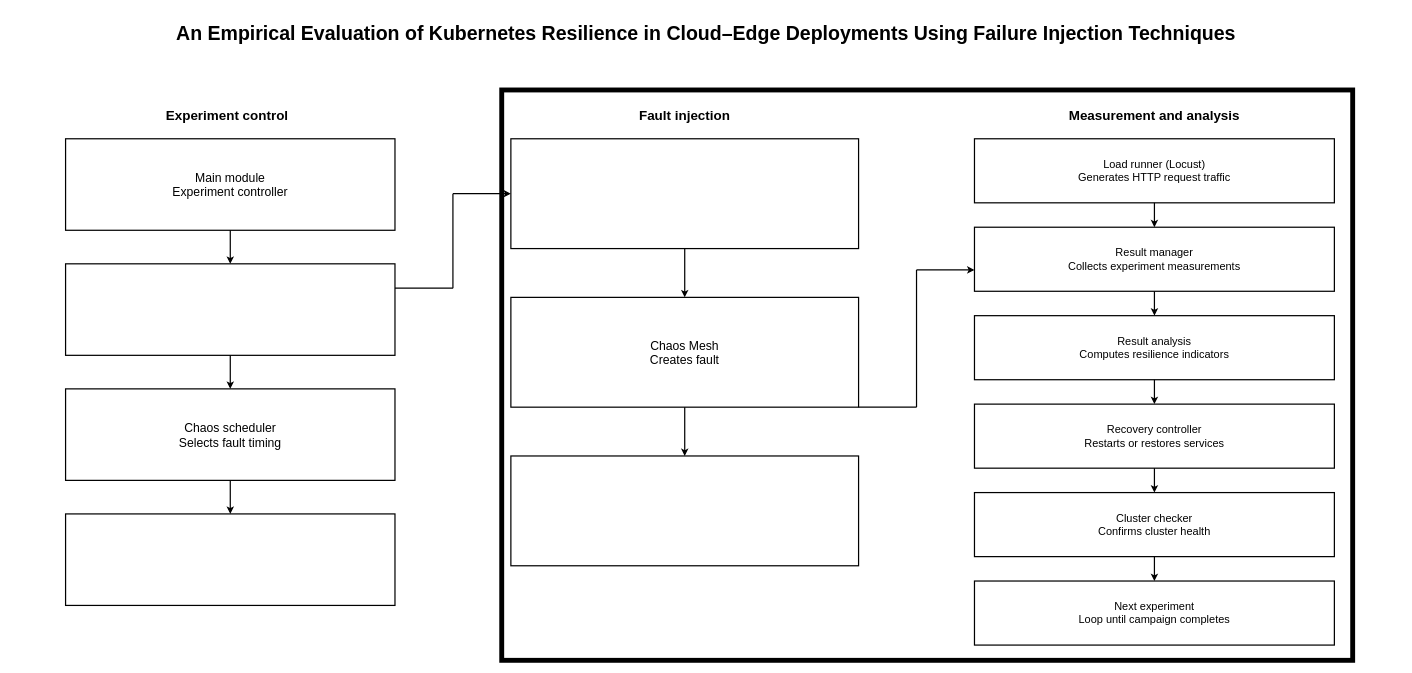
The diagram is 1412 pixels wide and 673 high, and some of its shapes have lost their labels. The box of each missing label's shape, as (x1, y1, x2, y2) in pixels:
Cluster checker Node readiness / Pod status: (65, 263, 395, 356)
Injection controller Network / node fault injection: (65, 513, 395, 606)
K8s cluster integration YAML / CRDs / kubectl: (510, 138, 859, 249)
Kubernetes cluster Cloud / cloud-edge / edge: (510, 455, 859, 566)
